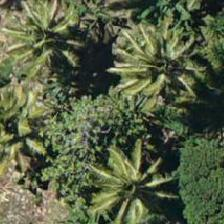coconut_tree: (119, 25, 209, 115), (13, 0, 103, 83), (83, 146, 173, 223), (0, 79, 64, 169)
